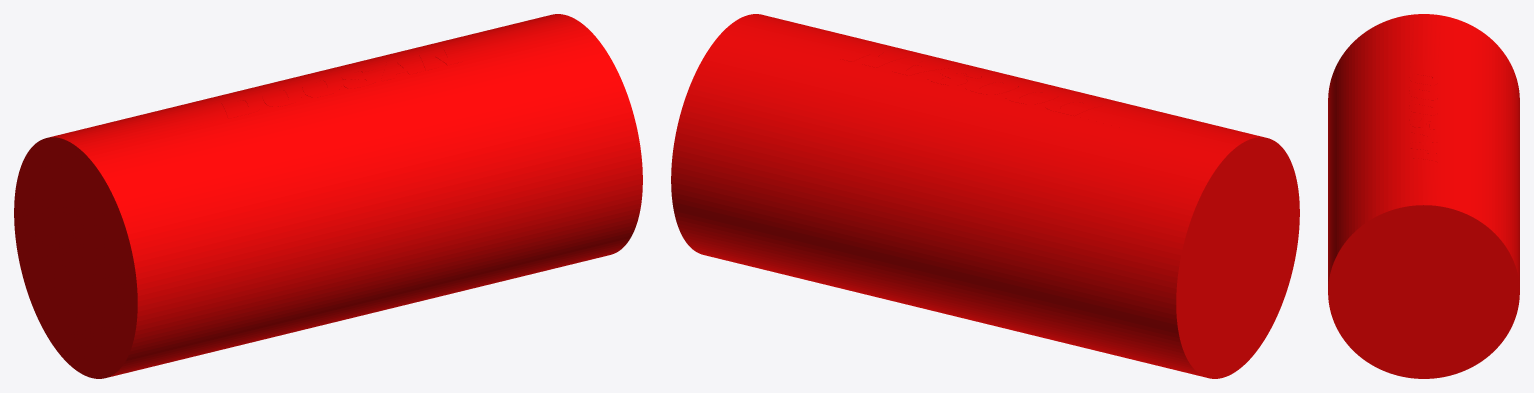
The picture shows the model from 3 angles, left to right: view 1: azimuth 30°, elevation 25°; view 2: azimuth 150°, elevation 25°; view 3: azimuth 270°, elevation 25°; orthographic projection. The views are drawn at different scales.
Parts seen in each view (by area): view 1: MF1509_2_1_001, Doosan_Mark; view 2: MF1509_2_1_001, Doosan_Mark; view 3: MF1509_2_1_001, Doosan_Mark.
Boxes of the visible parts, left/top/right/bottom form: MF1509_2_1_001: left=14, top=14, right=642, bottom=378; Doosan_Mark: left=221, top=45, right=462, bottom=118; MF1509_2_1_001: left=671, top=14, right=1299, bottom=378; Doosan_Mark: left=840, top=48, right=1103, bottom=115; MF1509_2_1_001: left=1328, top=14, right=1519, bottom=378; Doosan_Mark: left=1409, top=69, right=1438, bottom=161.
Bounding box in the file's own units: 236 × 99.99 × 100.
